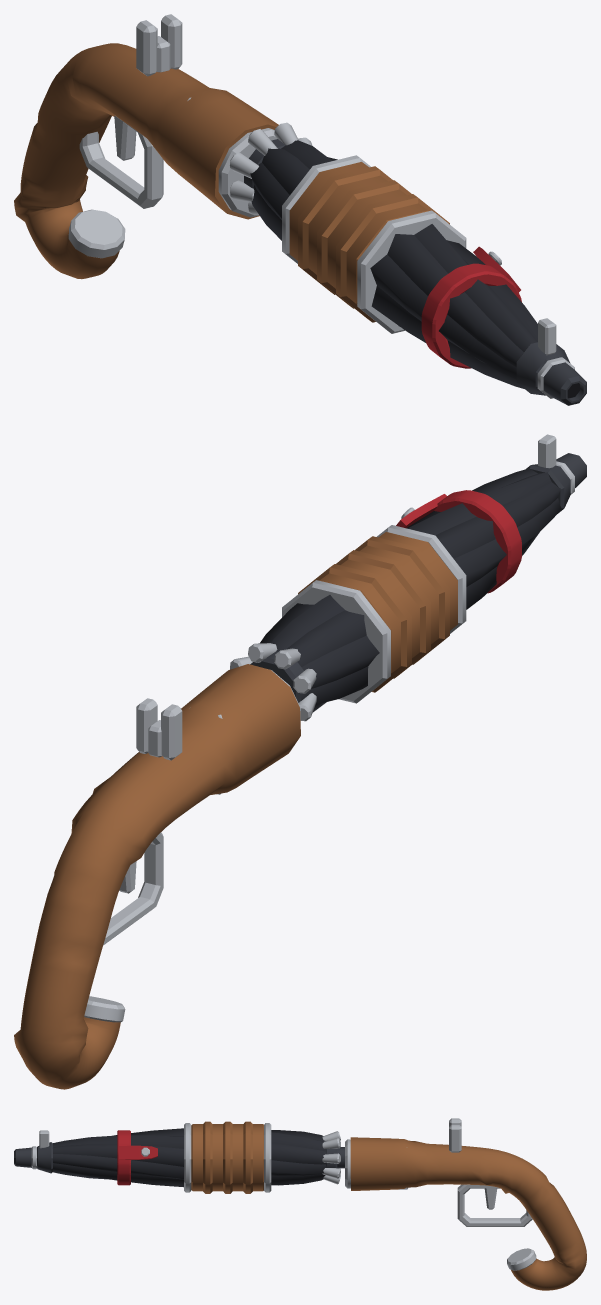
Rendered from w_shotgun@shotgun_umbrella.glb.
3 views of the same model, one above another, from view 1: azimuth 30°, elevation 25°; view 2: azimuth 150°, elevation 25°; view 3: azimuth 270°, elevation 25° (orthographic). The views are drawn at different scales.
Visible parts, largest first — view 1: body_wzA__wood__p93603a, canopy_wzA__canopy__p2a2c33, pump_wzA__wood__p93603a, pump_wzN__silver__pb4b8bf, guard_wzN__silver__pb4b8bf, strap_wzN__red__pa8262e, sight_wzN__silver__pb4b8bf, barrel_wzB__dark__p3a3d45, grip_wzN__silver__pb4b8bf, tips_wzN__silver__pb4b8bf, body_wzN__silver__pb4b8bf; view 2: body_wzA__wood__p93603a, canopy_wzA__canopy__p2a2c33, pump_wzA__wood__p93603a, pump_wzN__silver__pb4b8bf, strap_wzN__red__pa8262e, sight_wzN__silver__pb4b8bf, guard_wzN__silver__pb4b8bf, tips_wzN__silver__pb4b8bf, barrel_wzB__dark__p3a3d45, grip_wzN__silver__pb4b8bf; view 3: body_wzA__wood__p93603a, canopy_wzA__canopy__p2a2c33, pump_wzA__wood__p93603a, guard_wzN__silver__pb4b8bf, pump_wzN__silver__pb4b8bf, strap_wzN__red__pa8262e, barrel_wzB__dark__p3a3d45, tips_wzN__silver__pb4b8bf, sight_wzN__silver__pb4b8bf, grip_wzN__silver__pb4b8bf, body_wzN__silver__pb4b8bf.
Part boxes in pixels (left/top/right/bottom): body_wzA__wood__p93603a: left=14, top=43, right=278, bottom=279; canopy_wzA__canopy__p2a2c33: left=250, top=140, right=537, bottom=388; pump_wzA__wood__p93603a: left=289, top=162, right=449, bottom=322; pump_wzN__silver__pb4b8bf: left=282, top=155, right=466, bottom=333; guard_wzN__silver__pb4b8bf: left=79, top=115, right=163, bottom=208; strap_wzN__red__pa8262e: left=421, top=246, right=521, bottom=368; sight_wzN__silver__pb4b8bf: left=136, top=14, right=556, bottom=355; barrel_wzB__dark__p3a3d45: left=516, top=342, right=586, bottom=405; grip_wzN__silver__pb4b8bf: left=68, top=209, right=125, bottom=258; tips_wzN__silver__pb4b8bf: left=229, top=122, right=312, bottom=215; body_wzN__silver__pb4b8bf: left=187, top=97, right=276, bottom=217; body_wzA__wood__p93603a: left=14, top=664, right=300, bottom=1089; canopy_wzA__canopy__p2a2c33: left=260, top=468, right=561, bottom=712; pump_wzA__wood__p93603a: left=298, top=532, right=457, bottom=692; pump_wzN__silver__pb4b8bf: left=282, top=525, right=466, bottom=703; strap_wzN__red__pa8262e: left=396, top=490, right=521, bottom=593; sight_wzN__silver__pb4b8bf: left=136, top=434, right=556, bottom=760; guard_wzN__silver__pb4b8bf: left=103, top=832, right=163, bottom=944; tips_wzN__silver__pb4b8bf: left=230, top=643, right=316, bottom=721; barrel_wzB__dark__p3a3d45: left=526, top=453, right=586, bottom=514; grip_wzN__silver__pb4b8bf: left=84, top=996, right=125, bottom=1022; body_wzA__wood__p93603a: left=350, top=1137, right=586, bottom=1290; canopy_wzA__canopy__p2a2c33: left=52, top=1128, right=326, bottom=1187; pump_wzA__wood__p93603a: left=191, top=1121, right=263, bottom=1193; guard_wzN__silver__pb4b8bf: left=457, top=1184, right=532, bottom=1226; pump_wzN__silver__pb4b8bf: left=184, top=1123, right=271, bottom=1192; strap_wzN__red__pa8262e: left=117, top=1130, right=157, bottom=1185; barrel_wzB__dark__p3a3d45: left=14, top=1142, right=52, bottom=1173; tips_wzN__silver__pb4b8bf: left=322, top=1131, right=340, bottom=1184; sight_wzN__silver__pb4b8bf: left=39, top=1118, right=461, bottom=1152; grip_wzN__silver__pb4b8bf: left=507, top=1248, right=536, bottom=1270; body_wzN__silver__pb4b8bf: left=345, top=1139, right=407, bottom=1189.
Size of the model in its own units: 0.1062 by 0.2924 by 0.9105.
